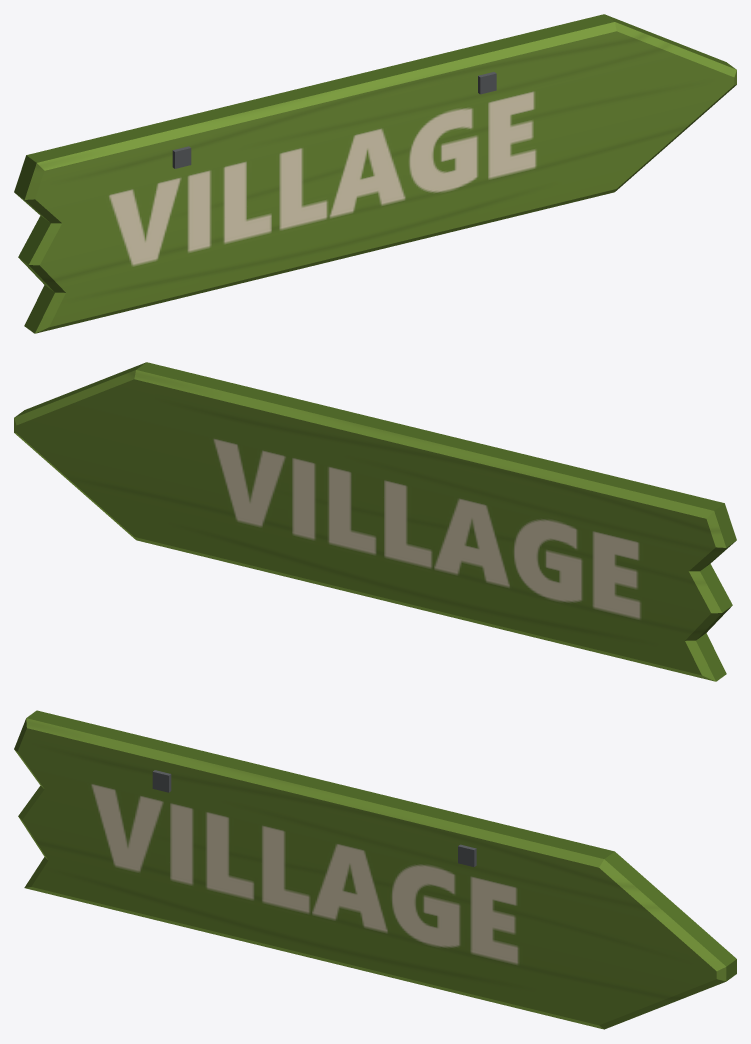
Rendered from FMS_Deco_Sign_Arrow_Green.fbx.
3 renders of one model, top to bottom at view 1: azimuth 30°, elevation 25°; view 2: azimuth 150°, elevation 25°; view 3: azimuth 330°, elevation 25°, orthographic.
Visible parts, largest first — view 1: item_decor_sign_arrow_green; view 2: item_decor_sign_arrow_green; view 3: item_decor_sign_arrow_green.
Boxes of the visible parts, x1,y1,x2,y2 form: item_decor_sign_arrow_green: [14, 14, 736, 333]; item_decor_sign_arrow_green: [14, 362, 736, 681]; item_decor_sign_arrow_green: [14, 710, 736, 1029].
Bounding box in the file's own units: 0.7 × 0.16 × 0.034.
